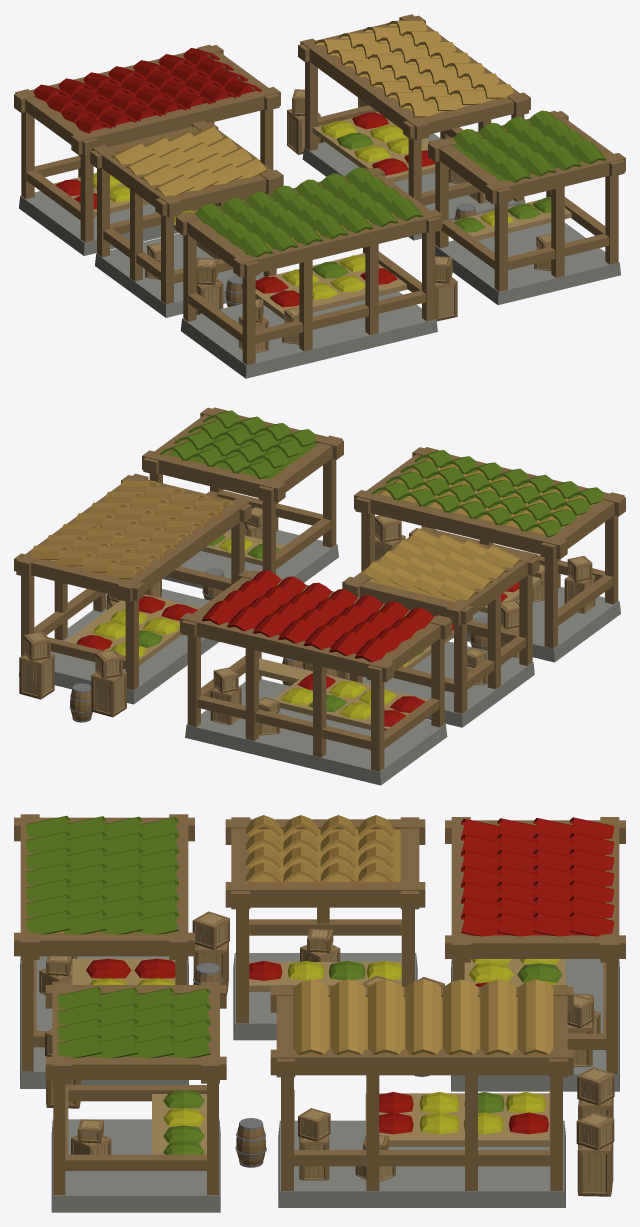
The model's file is market_second_age_level_3.glb.
3 views of the same model, one above another, from view 1: azimuth 30°, elevation 25°; view 2: azimuth 150°, elevation 25°; view 3: azimuth 270°, elevation 25° (orthographic). The views are drawn at different scales.
Parts seen in each view (by area): view 1: Market_SecondAge_Level3; view 2: Market_SecondAge_Level3; view 3: Market_SecondAge_Level3.
Part boxes in pixels (x1,y1,x2,y2): Market_SecondAge_Level3: [14, 14, 625, 378]; Market_SecondAge_Level3: [14, 407, 625, 785]; Market_SecondAge_Level3: [14, 814, 625, 1212].
Bounding box in the file's own units: 1.93 × 0.6571 × 1.99.
